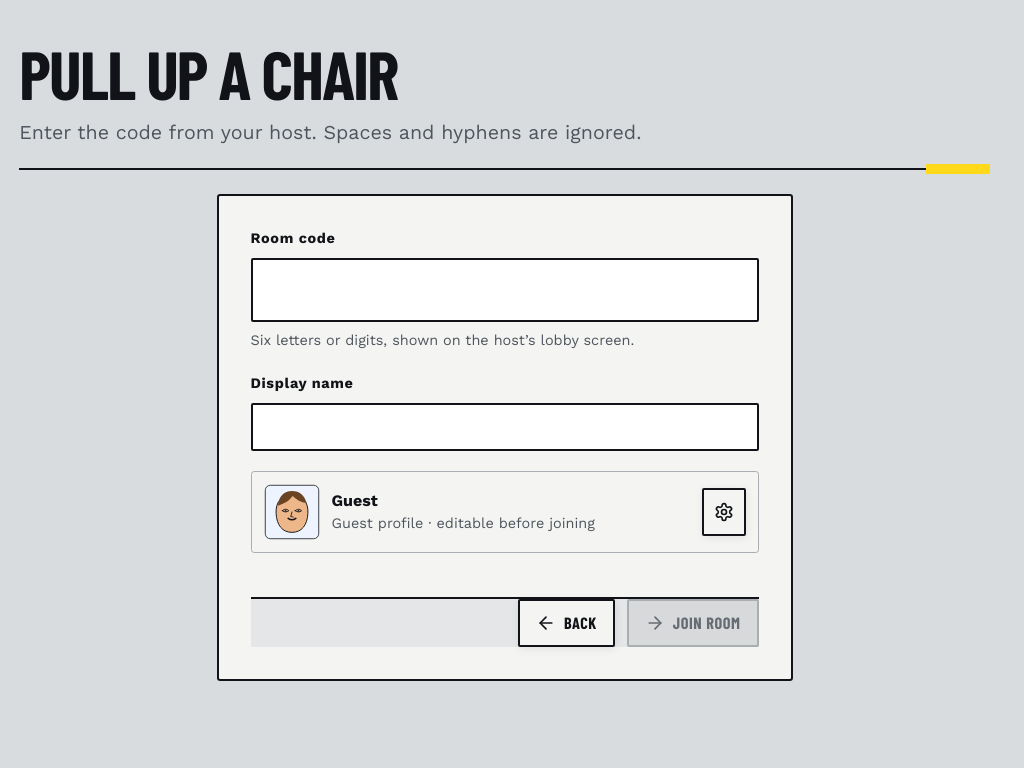
Test: JoinScreen › accepts room-code digits and ignores separators
In the field with test id "join-room-code": point(504, 290) [250, 258, 758, 322], type "AB-2 3CD"
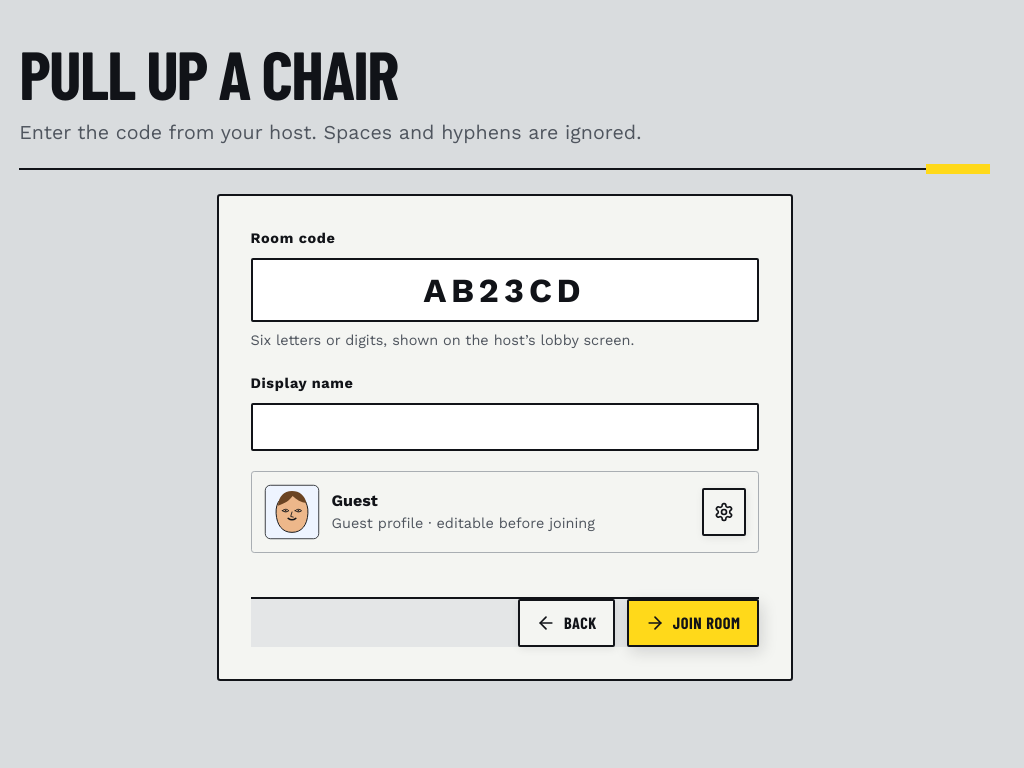
Now the field with test id "join-room-code" holds "AB23CD", box [250, 258, 758, 322]
Now the button with test id "join-submit" is enabled, box [627, 599, 758, 647]
